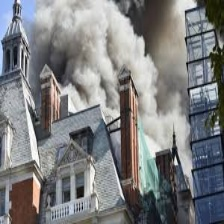smoke: (31, 3, 191, 152)
